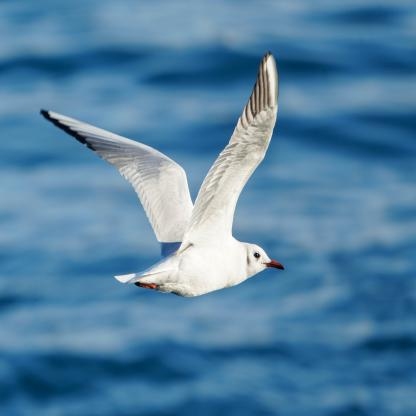bird: (42, 52, 284, 296)
